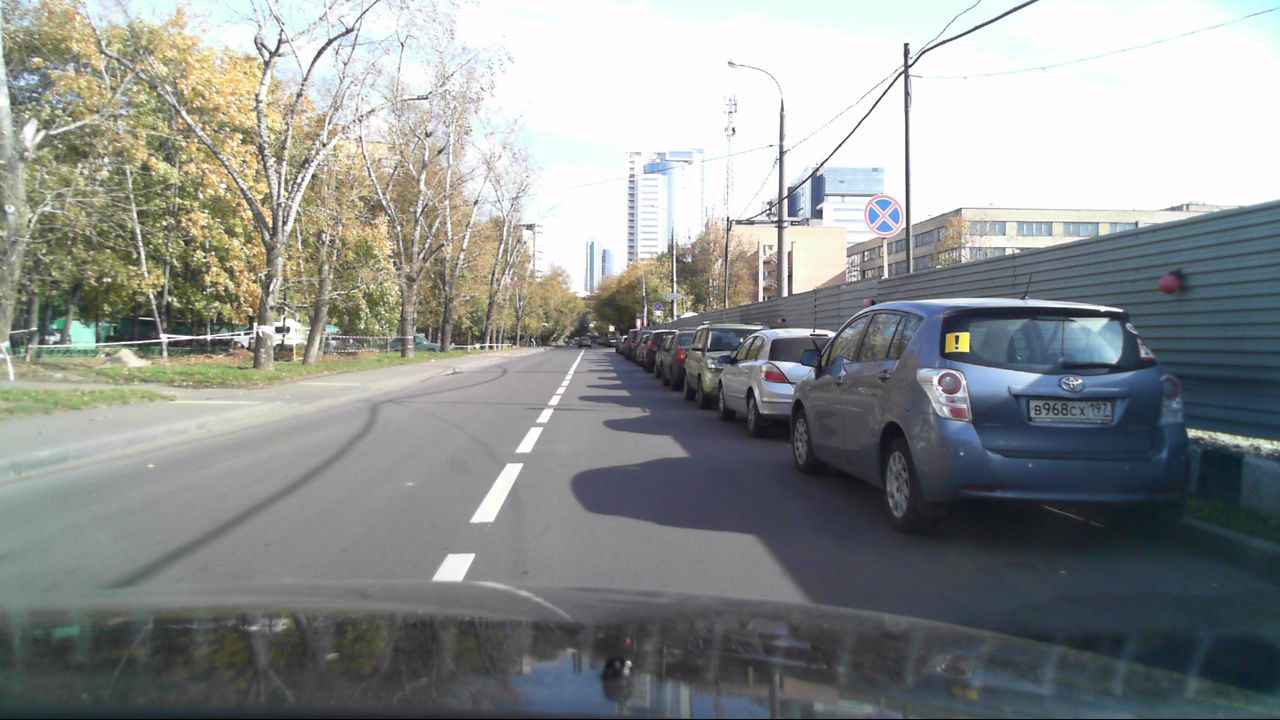No Parking: (863, 195, 907, 238)
